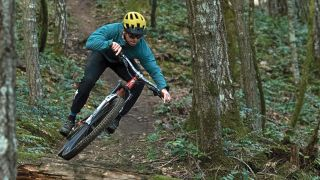helmet: (123, 11, 146, 46)
